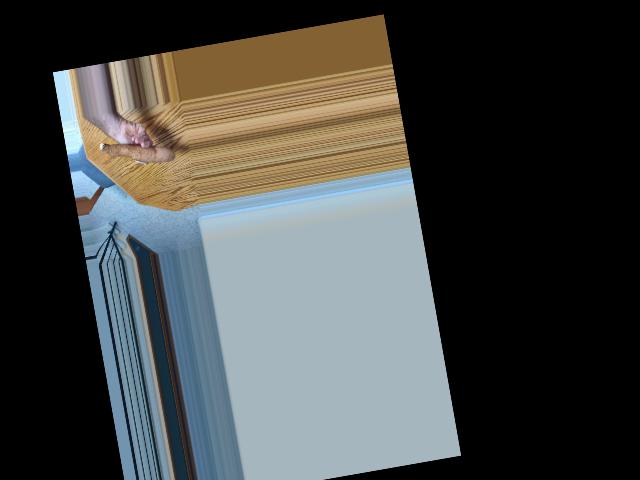sweet_potato: (98, 124, 173, 176)
